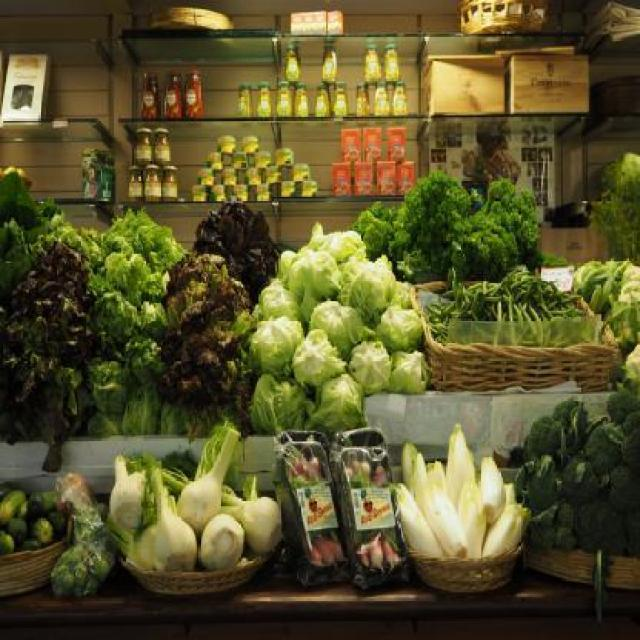Broccoli: (516, 389, 640, 620)
